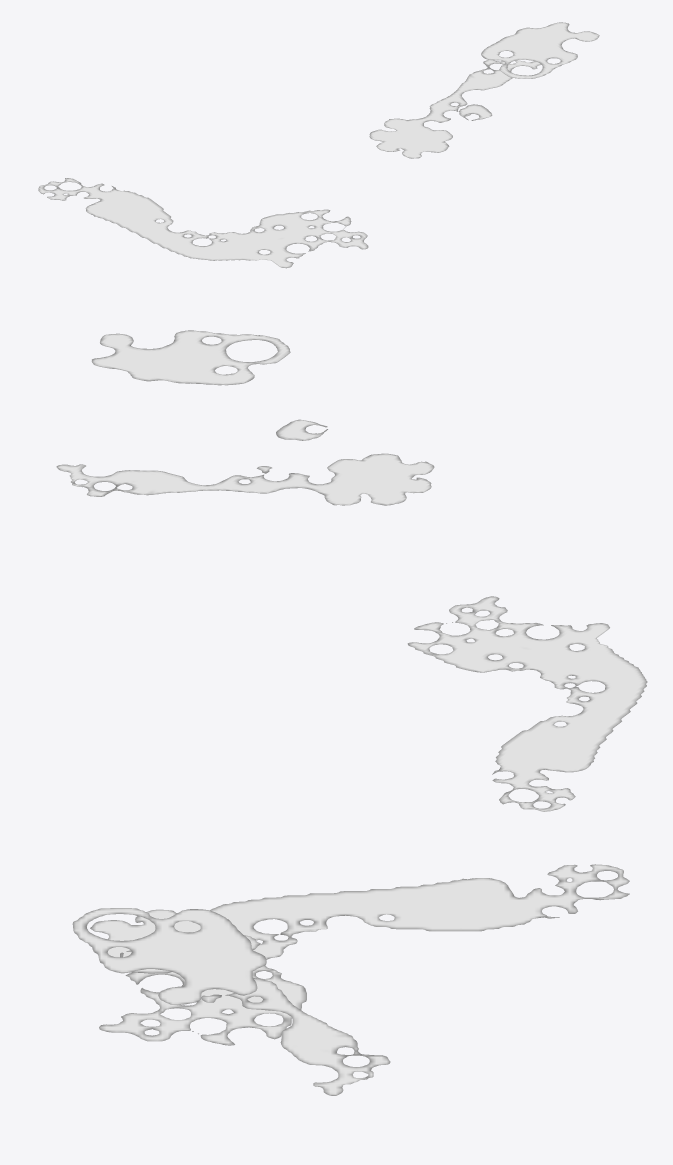
File: pollutiona.dae
3 renders of one model, top to bottom at view 1: azimuth 30°, elevation 25°; view 2: azimuth 150°, elevation 25°; view 3: azimuth 270°, elevation 25°, orthographic. The views are drawn at different scales.
Parts seen in each view (by area): view 1: m0; view 2: m0; view 3: m0.
Boxes of the visible parts, x1,y1,x2,y2 form: m0: [38, 22, 599, 268]; m0: [56, 330, 647, 811]; m0: [72, 864, 629, 1095].
Size of the model in its own units: 6521 by 1700 by 4053.
Materials: 1 (1 with a texture image).
